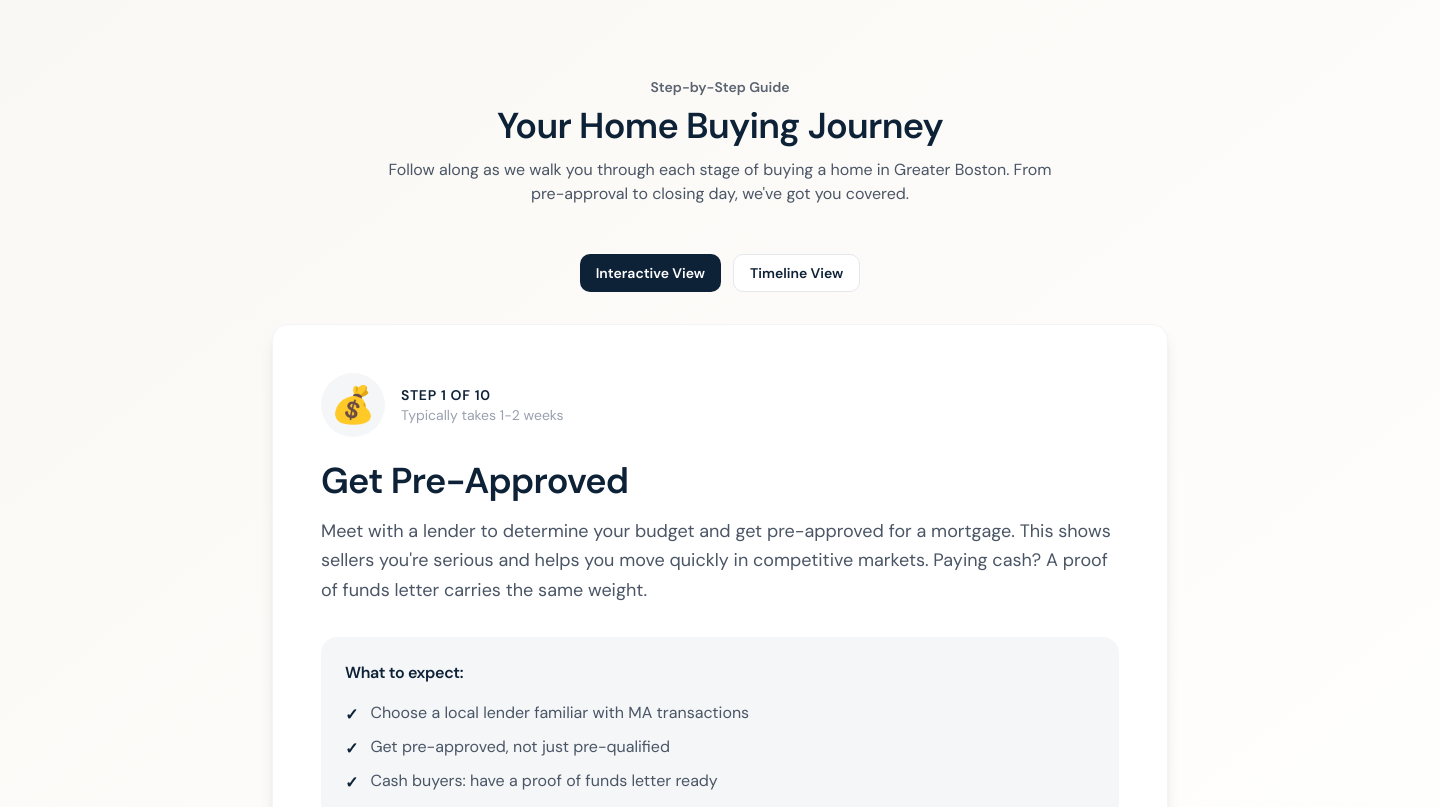
Test: BuyingProcessGuide › switches to timeline view when Timeline View button is clicked
The width and height of the screenshot is (1440, 807).
Click the button "Timeline View" at (797, 273), box [733, 254, 860, 292]
(page scrolled)
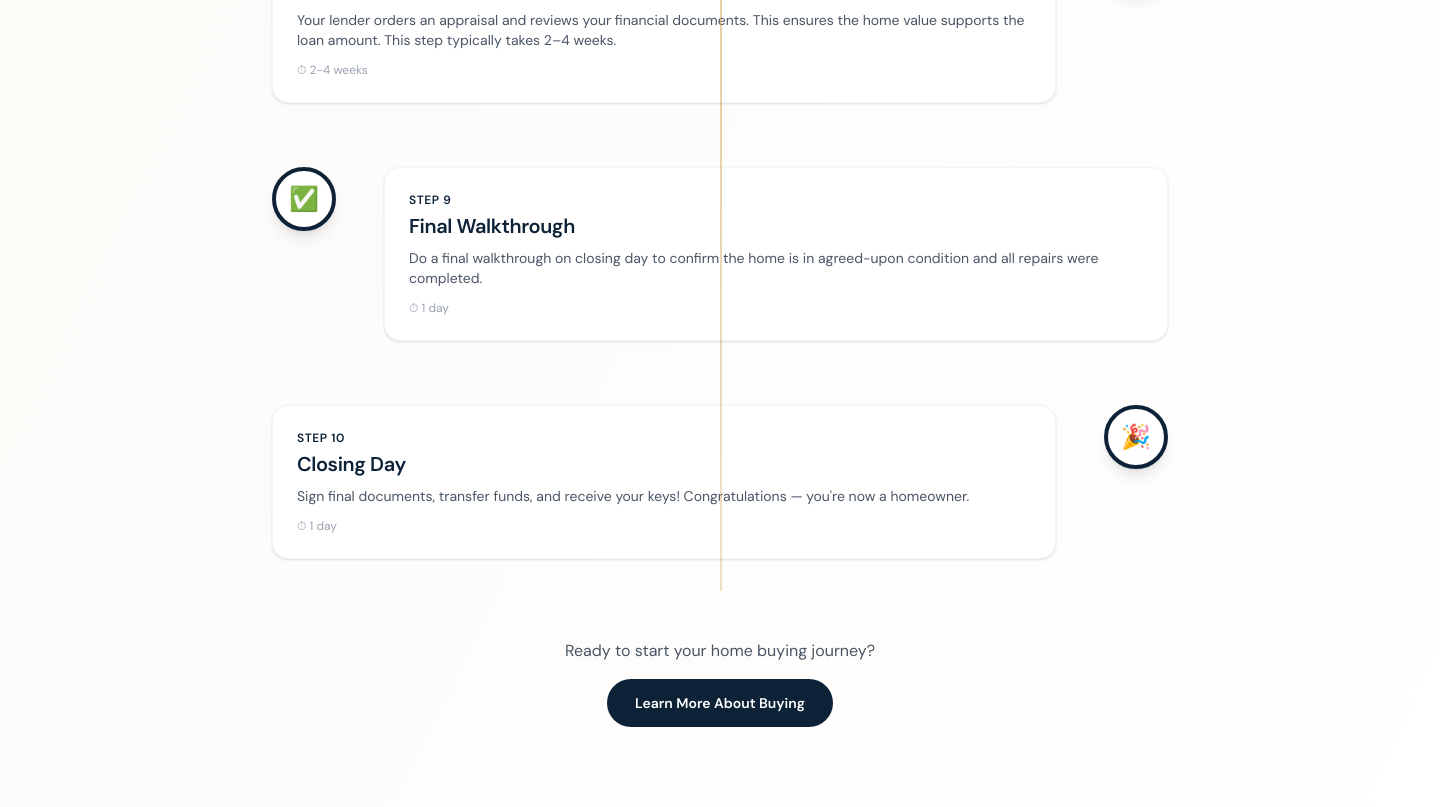
Expected: the heading "Closing Day" is shown, [297, 451, 406, 477]
